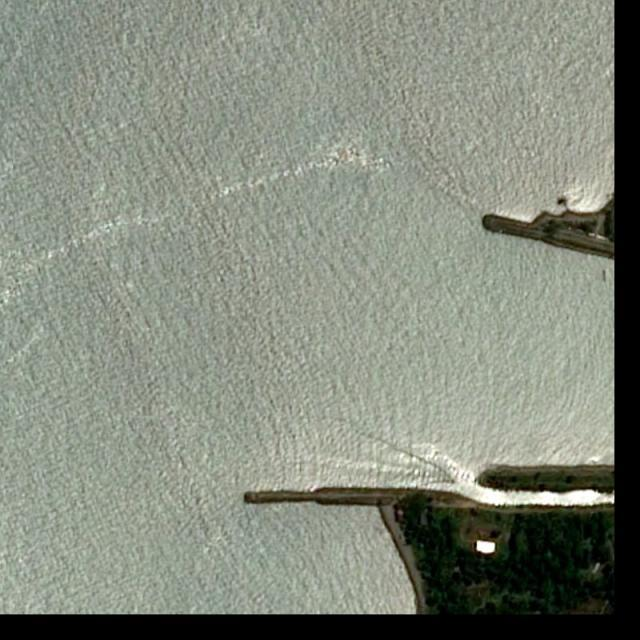ship: (559, 197, 570, 210), (380, 156, 391, 164), (452, 475, 458, 484)
